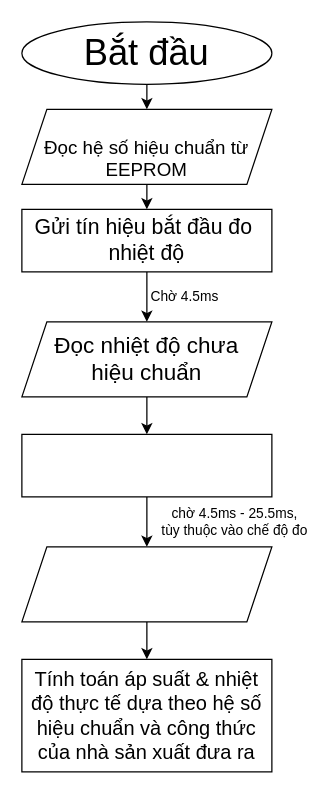
Some shapes in this 329 by 794 pixel diagram are drawn without their labels. Here are the shapes that lost their labels. From the top down, the box of each, then its label:
(21, 433, 272, 497): Gửi tín hiệu bắt đầu đo áp suất
(21, 546, 272, 622): Đọc áp suất chưa hiệu chuẩn
